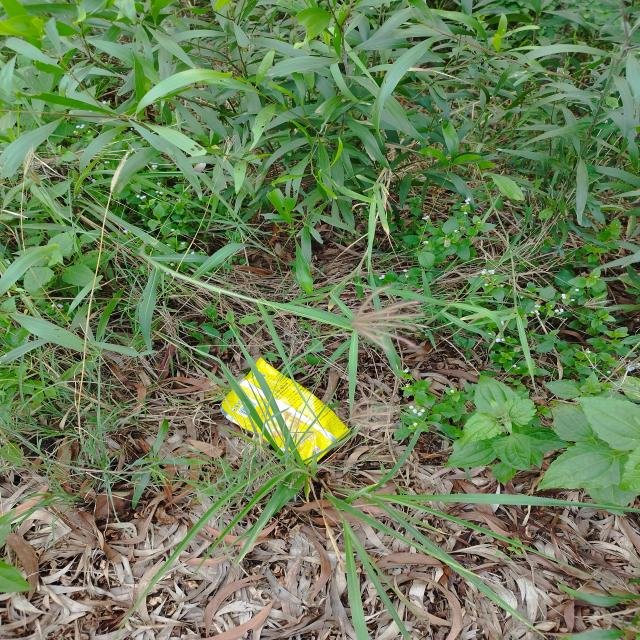snack package: (220, 357, 352, 468)
